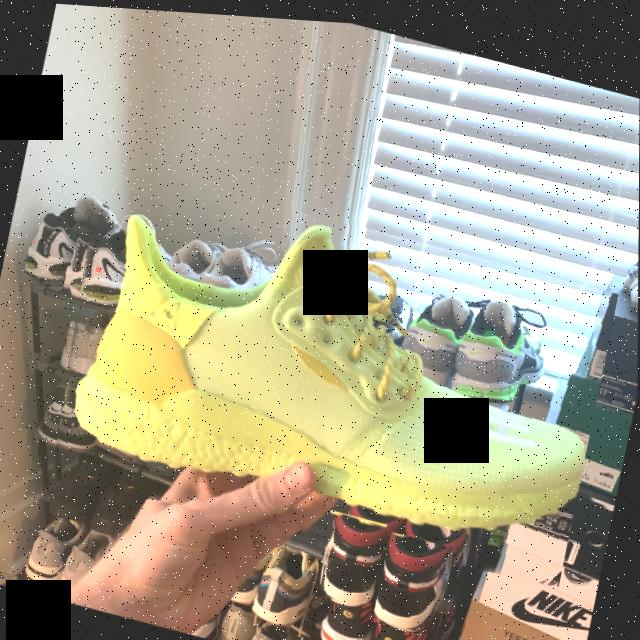shoe: (37, 154, 619, 604), (437, 298, 553, 434), (23, 177, 116, 298), (388, 286, 478, 409), (247, 526, 330, 636), (373, 525, 456, 634), (314, 504, 389, 606), (21, 503, 87, 596)
